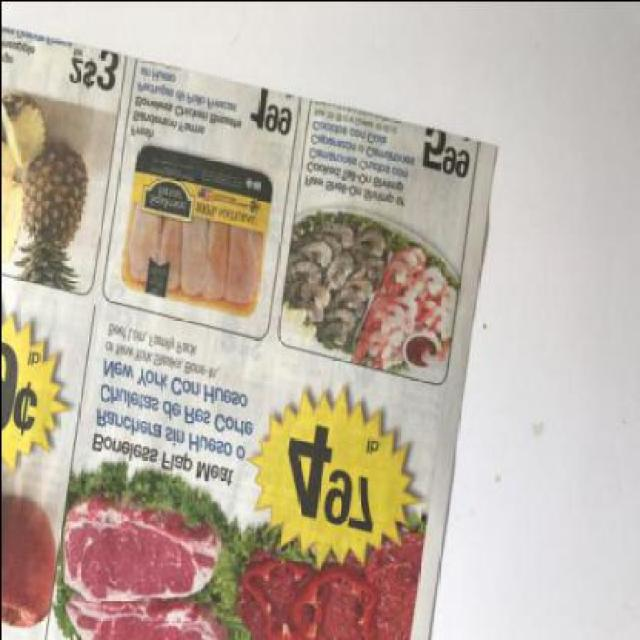PAPER: (1, 26, 497, 639)
